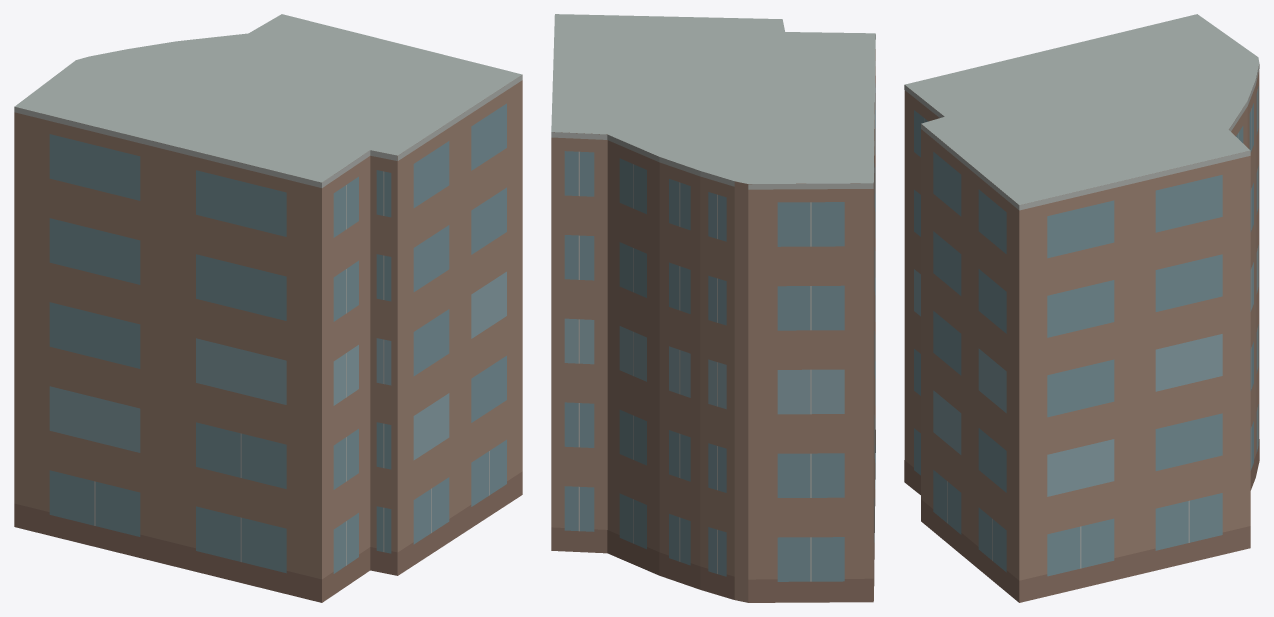
Rendered from survey-upis-32937734.glb.
3 renders of one model, left to right at view 1: azimuth 30°, elevation 25°; view 2: azimuth 150°, elevation 25°; view 3: azimuth 270°, elevation 25°, orthographic. The views are drawn at different scales.
Parts seen in each view (by area): view 1: survey-upis-32937734.tmp; view 2: survey-upis-32937734.tmp; view 3: survey-upis-32937734.tmp.
Part boxes in pixels (x1=…): survey-upis-32937734.tmp: x1=14, y1=14, x2=522, y2=602; survey-upis-32937734.tmp: x1=551, y1=14, x2=875, y2=602; survey-upis-32937734.tmp: x1=904, y1=14, x2=1259, y2=602.
Size of the model in its own units: 18.98 by 18.4 by 14.89.
